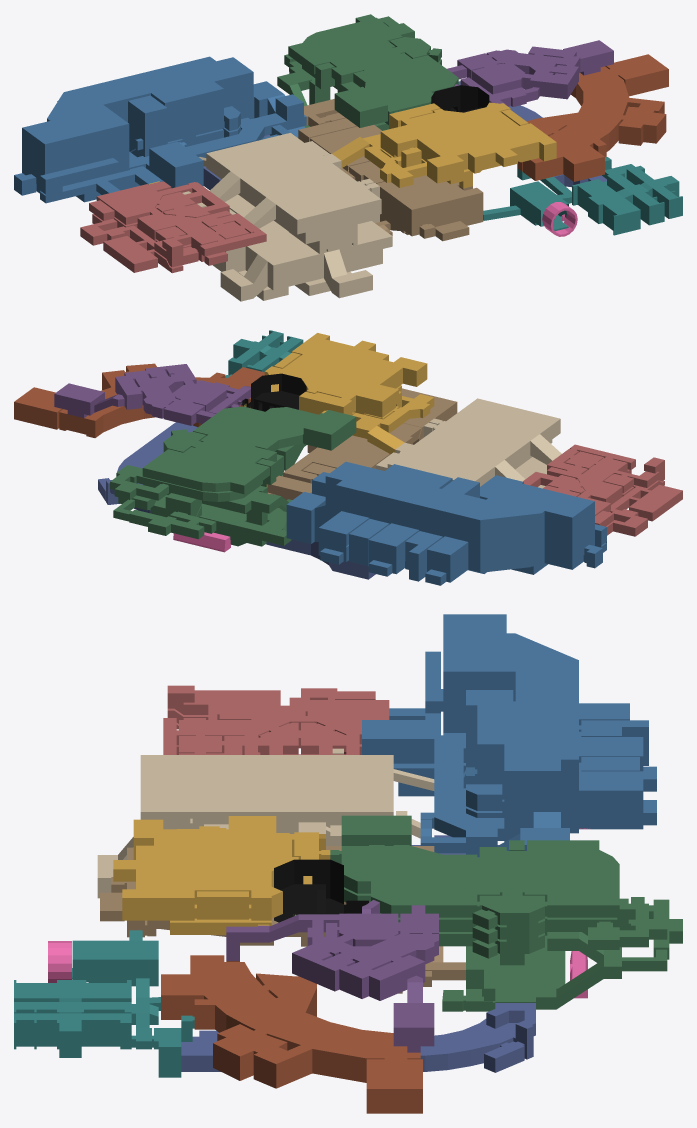
Rendered from stella-3d-reference.glb.
3 views of the same model, one above another, from view 1: azimuth 30°, elevation 25°; view 2: azimuth 150°, elevation 25°; view 3: azimuth 270°, elevation 25° (orthographic). The views are drawn at different scales.
Parts seen in each view (by area): view 1: assembly, loading bay, lobby, atrium, medical, archives, sandbox, seed vault, business center, communications, metro, seed vault extract; view 2: assembly, lobby, atrium, loading bay, medical, business center, archives, sandbox, metro, seed vault, communications, lobby metro extract; view 3: assembly, lobby, archives, loading bay, atrium, seed vault, business center, medical, metro, communications, sandbox, seed vault extract.
Part boxes in pixels (x1,y1,x2,y2): assembly: [14, 56, 306, 203]; loading bay: [182, 133, 392, 301]; lobby: [277, 14, 458, 130]; atrium: [332, 102, 556, 188]; medical: [80, 181, 266, 273]; archives: [517, 54, 668, 181]; sandbox: [298, 99, 483, 241]; seed vault: [483, 156, 682, 235]; business center: [447, 40, 613, 106]; communications: [431, 85, 489, 112]; metro: [203, 81, 611, 189]; seed vault extract: [542, 202, 577, 236]; assembly: [286, 461, 606, 585]; lobby: [110, 406, 356, 546]; atrium: [264, 333, 434, 454]; loading bay: [376, 398, 561, 488]; medical: [523, 444, 682, 536]; business center: [54, 364, 250, 425]; archives: [14, 363, 264, 437]; sandbox: [267, 388, 457, 507]; metro: [98, 422, 375, 579]; seed vault: [225, 330, 303, 378]; communications: [241, 373, 306, 411]; lobby metro extract: [173, 532, 230, 552]; assembly: [362, 614, 656, 857]; lobby: [330, 815, 682, 1011]; archives: [161, 955, 422, 1113]; loading bay: [97, 748, 434, 898]; atrium: [113, 816, 330, 934]; seed vault: [14, 930, 194, 1077]; business center: [226, 900, 438, 1052]; medical: [163, 685, 389, 754]; metro: [181, 835, 535, 1072]; communications: [274, 859, 368, 922]; sandbox: [100, 846, 465, 993]; seed vault extract: [48, 941, 71, 982].
Bounding box in the file's own units: 109 × 19.5 × 74.
